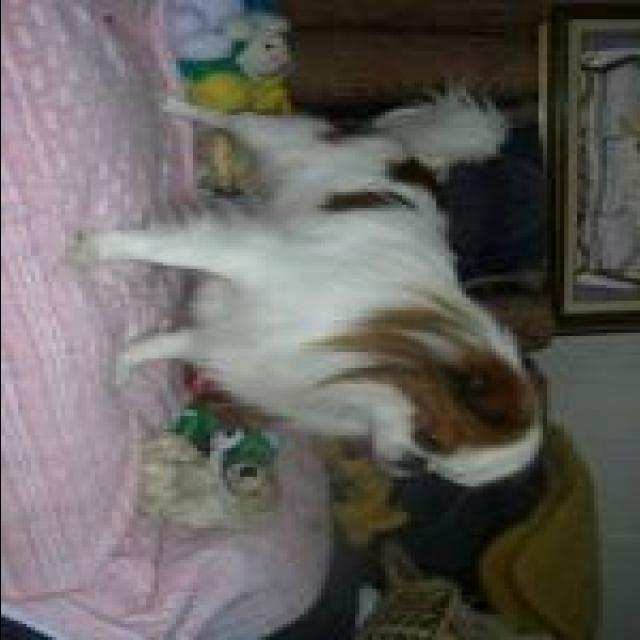husky: (72, 86, 546, 492)
